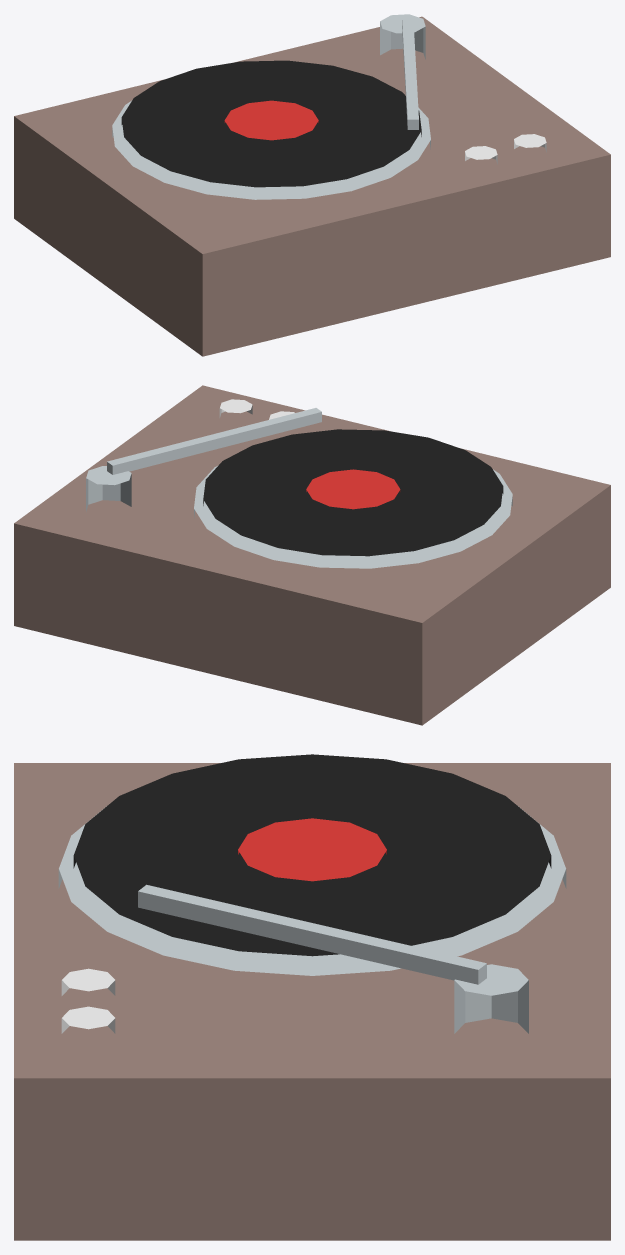
File: skivspelare.glb
3 views of the same model, one above another, from view 1: azimuth 30°, elevation 25°; view 2: azimuth 150°, elevation 25°; view 3: azimuth 270°, elevation 25° (orthographic). The views are drawn at different scales.
Parts seen in each view (by area): view 1: skivspelare; view 2: skivspelare; view 3: skivspelare.
Boxes of the visible parts, x1=… form: skivspelare: x1=14, y1=14, x2=610, y2=356; skivspelare: x1=14, y1=385, x2=610, y2=725; skivspelare: x1=14, y1=754, x2=610, y2=1240.
Bounding box in the file's own units: 0.5 × 0.171 × 0.4.
